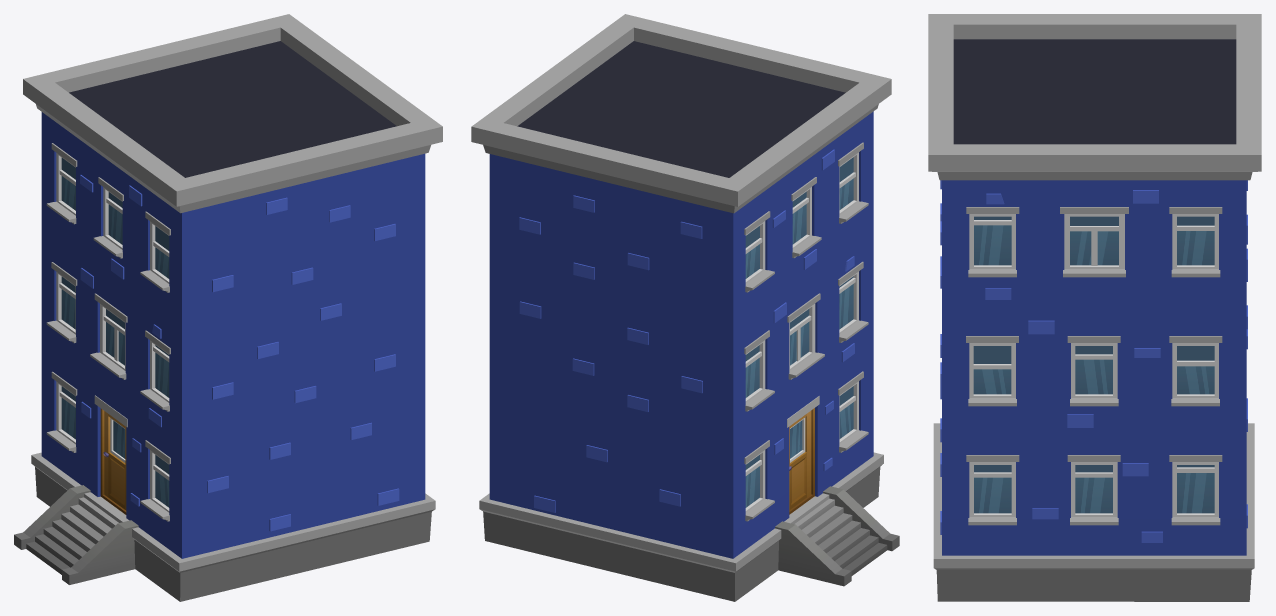
The model's file is Building_2_4_C.fbx.
The picture shows the model from 3 angles, left to right: view 1: azimuth 30°, elevation 25°; view 2: azimuth 150°, elevation 25°; view 3: azimuth 270°, elevation 25°; orthographic projection. The views are drawn at different scales.
Parts seen in each view (by area): view 1: Building_2_4_C; view 2: Building_2_4_C; view 3: Building_2_4_C.
Part boxes in pixels (x1,y1,x2,y2): Building_2_4_C: [14, 14, 442, 601]; Building_2_4_C: [471, 14, 899, 601]; Building_2_4_C: [928, 14, 1261, 601].
Size of the model in its own units: 754 by 926 by 620.
